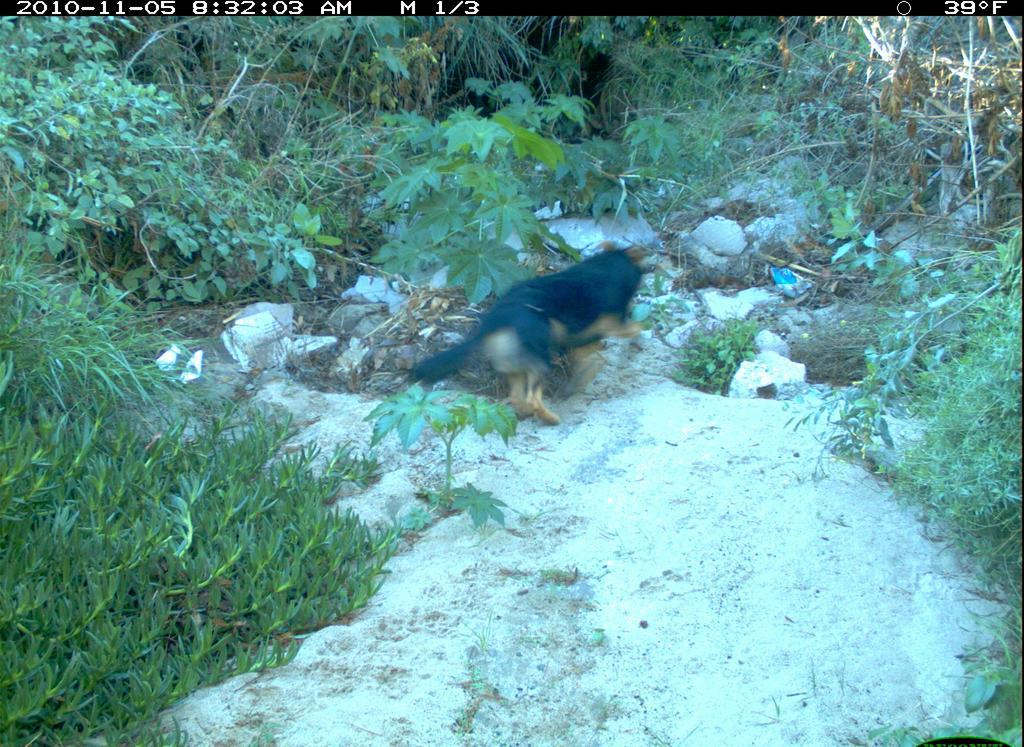dog: (399, 231, 674, 442)
